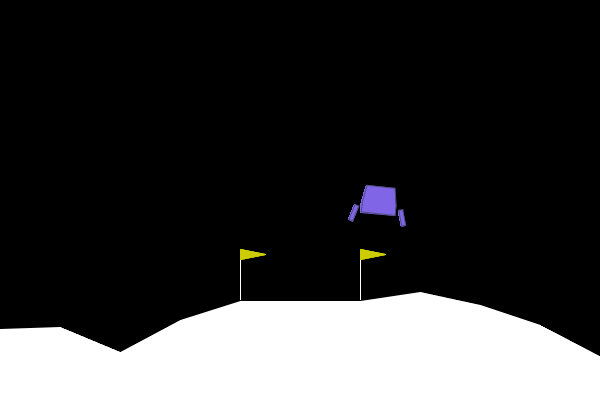lander: (347, 182, 411, 228)
